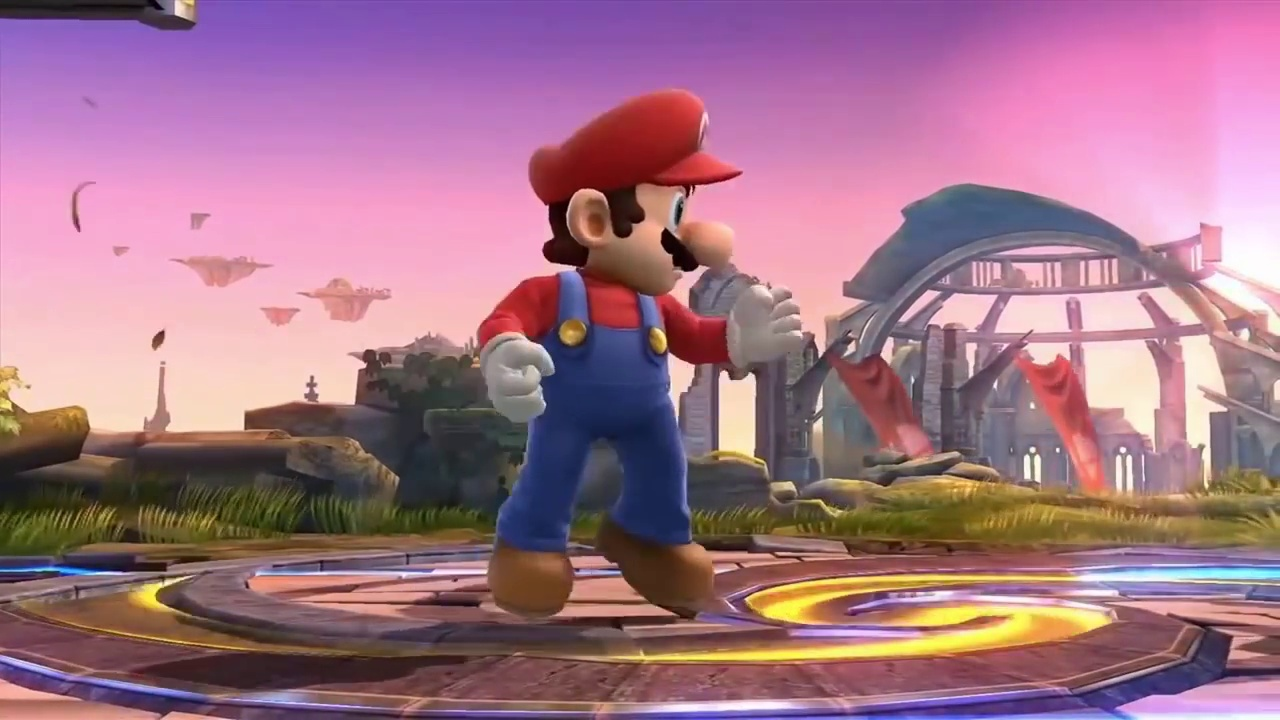Mario: (479, 89, 802, 605)
